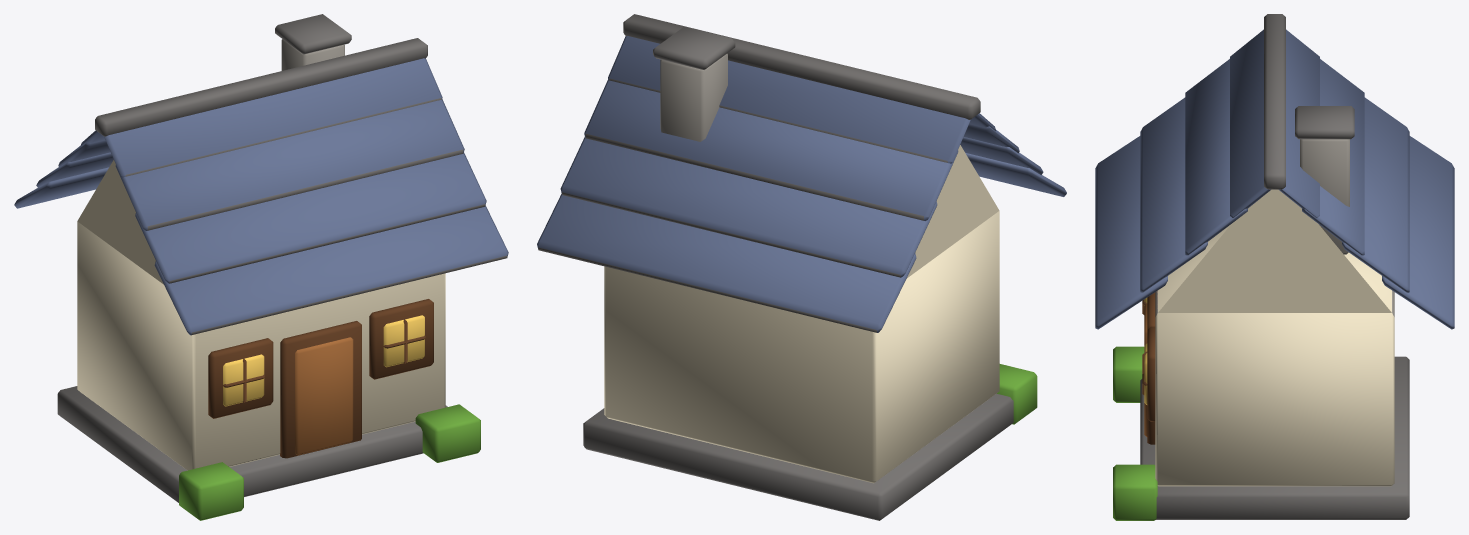
The model's file is B_MedCottageSlate.fbx.
The picture shows the model from 3 angles, left to right: view 1: azimuth 30°, elevation 25°; view 2: azimuth 150°, elevation 25°; view 3: azimuth 270°, elevation 25°; orthographic projection. The views are drawn at different scales.
Parts seen in each view (by area): view 1: M_CottageSlate; view 2: M_CottageSlate; view 3: M_CottageSlate.
Part boxes in pixels (left/top/right/bottom): M_CottageSlate: left=14, top=14, right=508, bottom=520; M_CottageSlate: left=537, top=14, right=1066, bottom=520; M_CottageSlate: left=1095, top=14, right=1454, bottom=520.
Size of the model in its own units: 3.85 by 4.12 by 3.6.
Materials: 1 (1 with a texture image).
